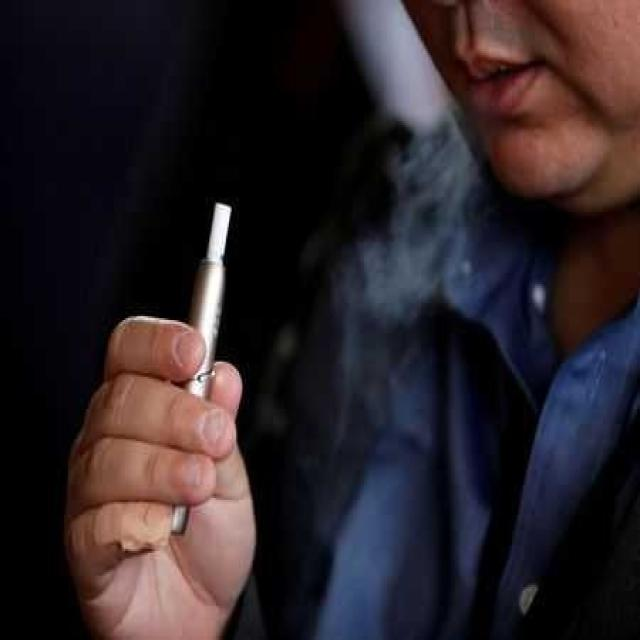Smooking: (161, 181, 275, 615)
